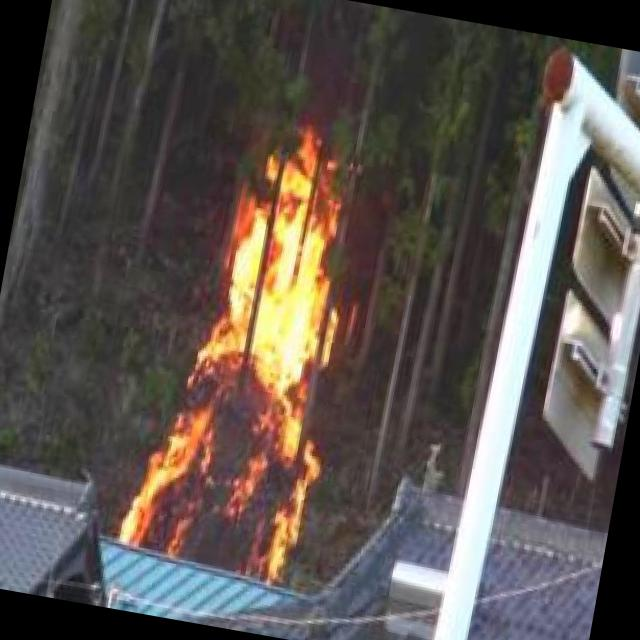Fire: (115, 121, 378, 586)
